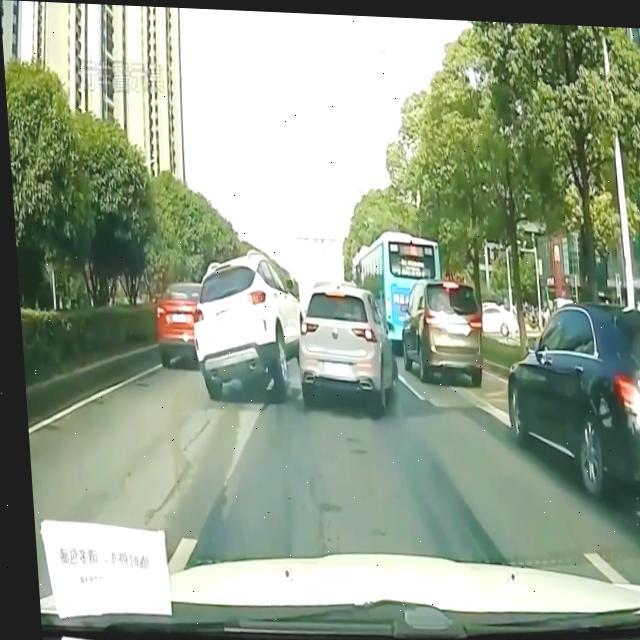multiple_accident: (175, 219, 494, 435)
normal: (493, 285, 640, 487)
